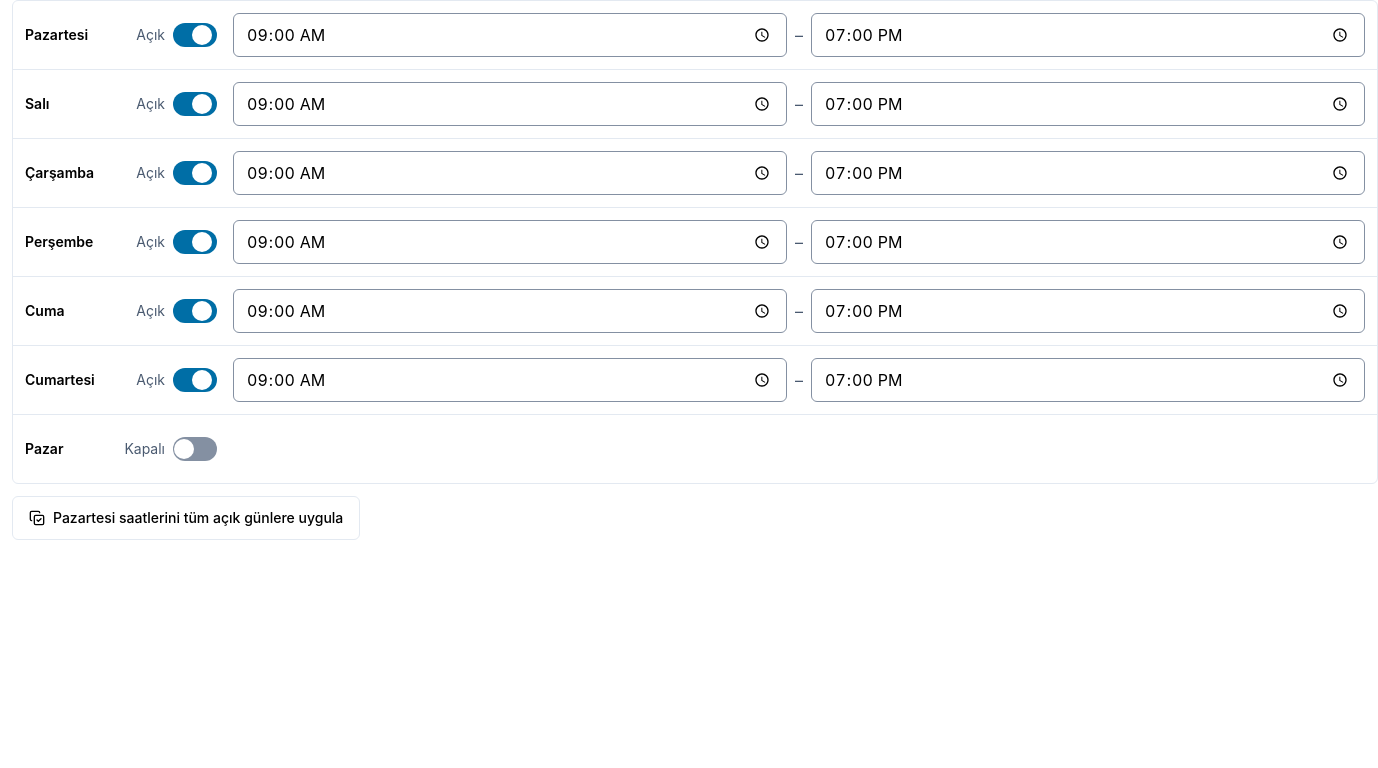
Test: WorkingHoursEditor › ilk açık günün saatlerini tüm açık günlere uygular, kapalı günlere dokunmaz
Replace the text in the time field named "Pazartesi açılış" with "08:30" at (510, 35), box [233, 13, 787, 57]
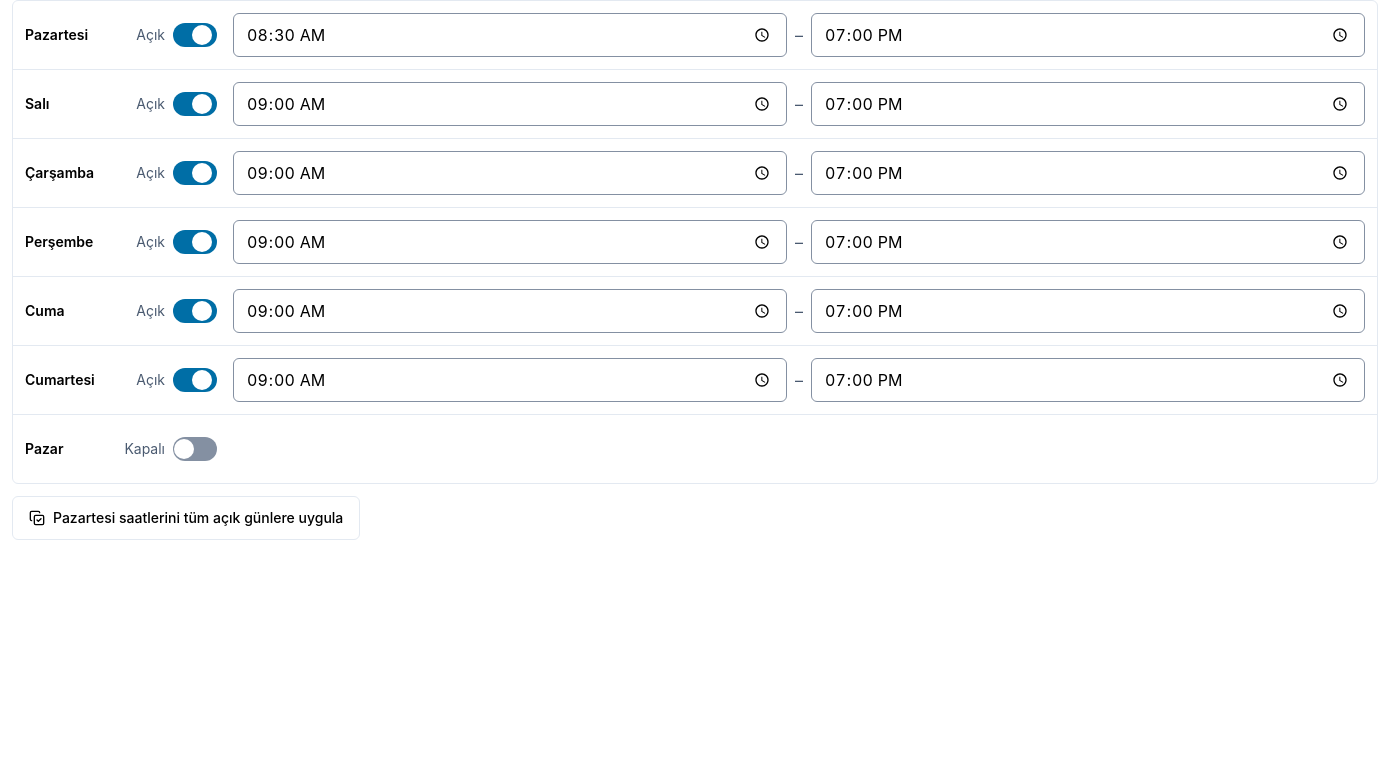
Replace the text in the time field named "Pazartesi kapanış" with "17:00" at (1088, 35), box [811, 13, 1365, 57]
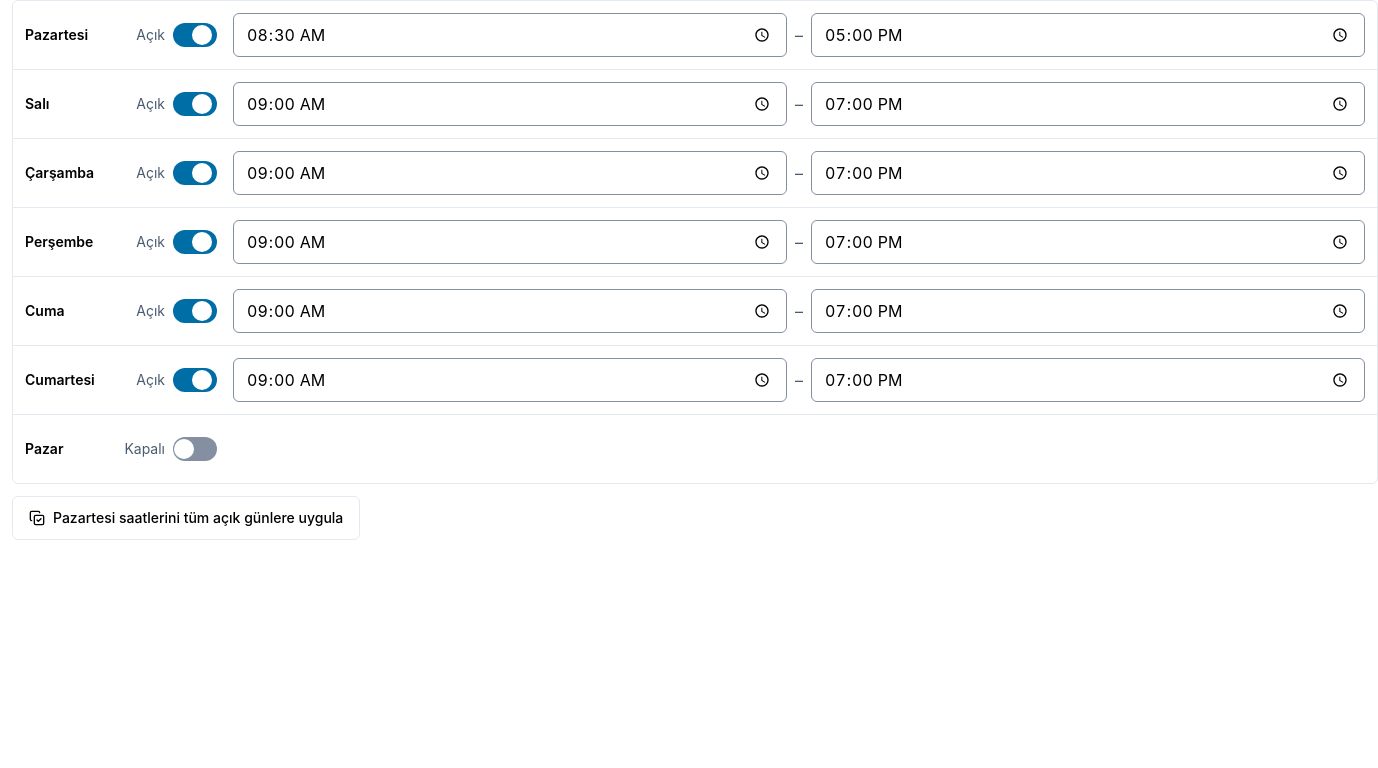
Click the button "Pazartesi saatlerini tüm açık günlere uygula" at (186, 518), box [12, 496, 360, 540]
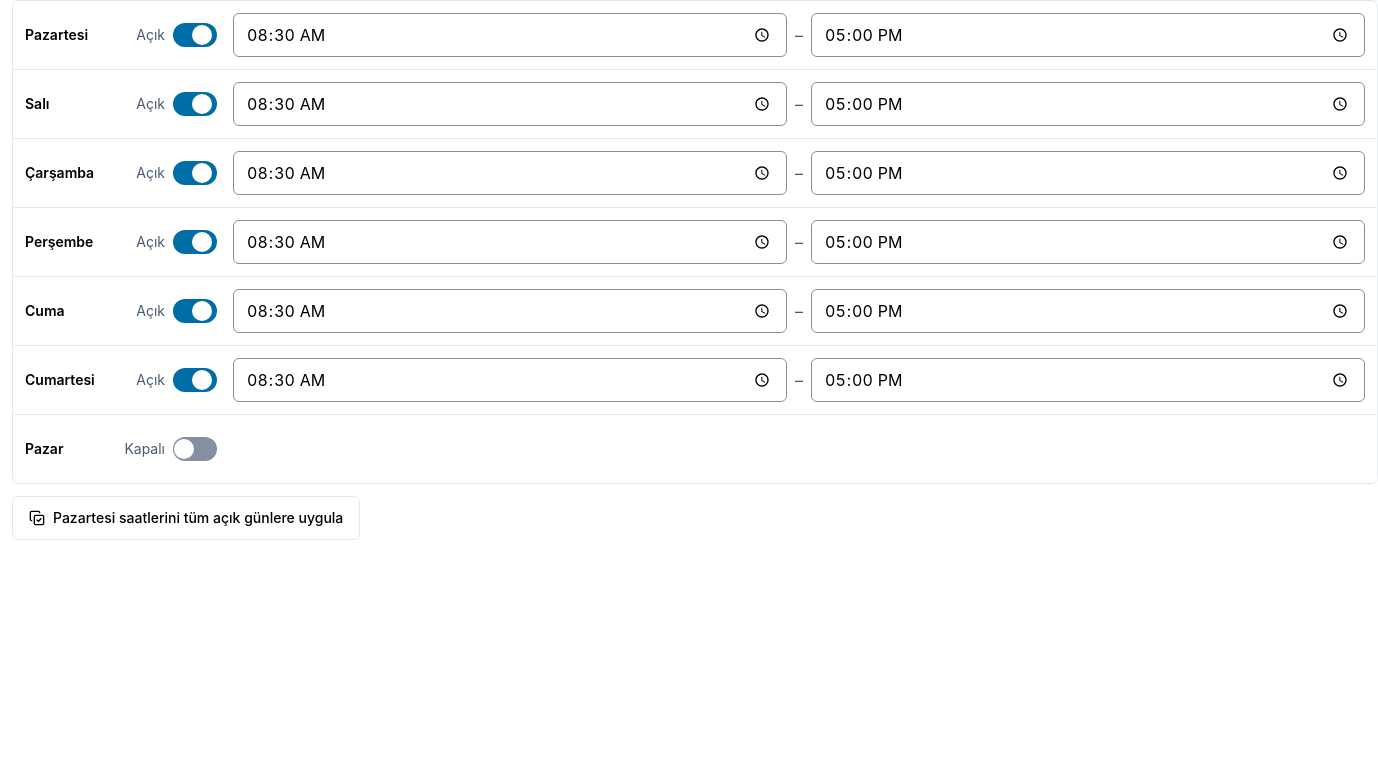
Check: the time field named "Cuma açılış" holds "08:30", box [233, 289, 787, 333]
Check: the time field named "Cumartesi kapanış" holds "17:00", box [811, 358, 1365, 402]
